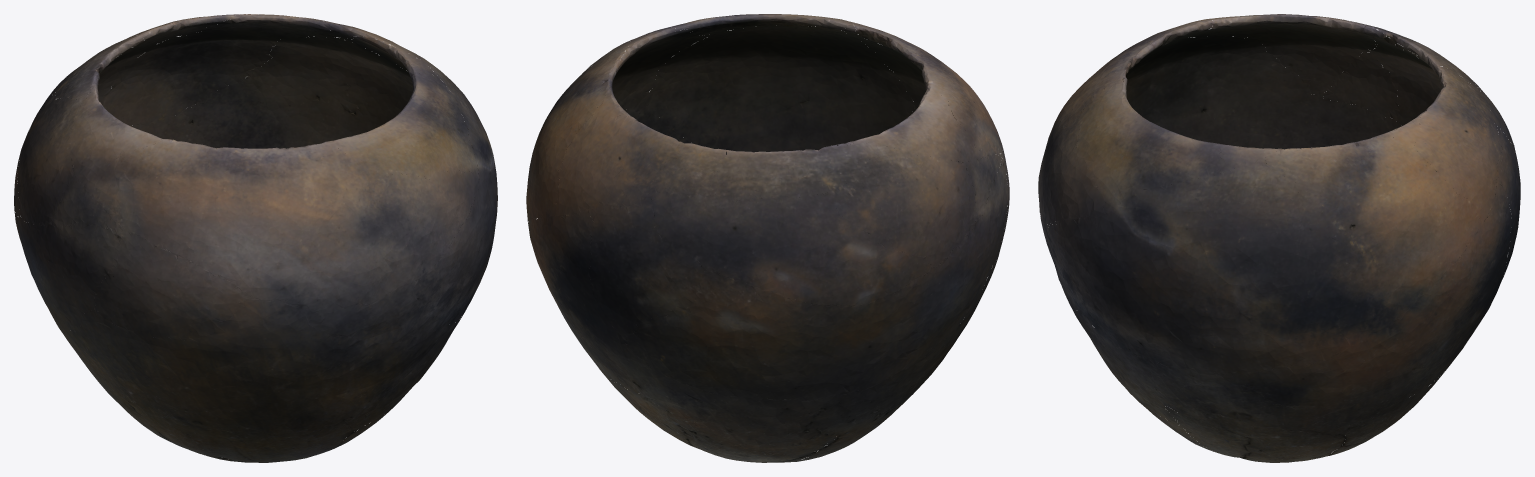
Rendered from Objeto_12_4k-b.glb.
The picture shows the model from 3 angles, left to right: view 1: azimuth 30°, elevation 25°; view 2: azimuth 150°, elevation 25°; view 3: azimuth 270°, elevation 25°; orthographic projection.
Parts seen in each view (by area): view 1: Mesh_0; view 2: Mesh_0; view 3: Mesh_0.
Boxes of the visible parts, bbox=[...] form: Mesh_0: bbox=[14, 14, 497, 462]; Mesh_0: bbox=[526, 14, 1009, 462]; Mesh_0: bbox=[1038, 14, 1520, 462].
Bounding box in the file's own units: 0.2521 × 0.2103 × 0.2522.
Materials: 1 (1 with a texture image).
